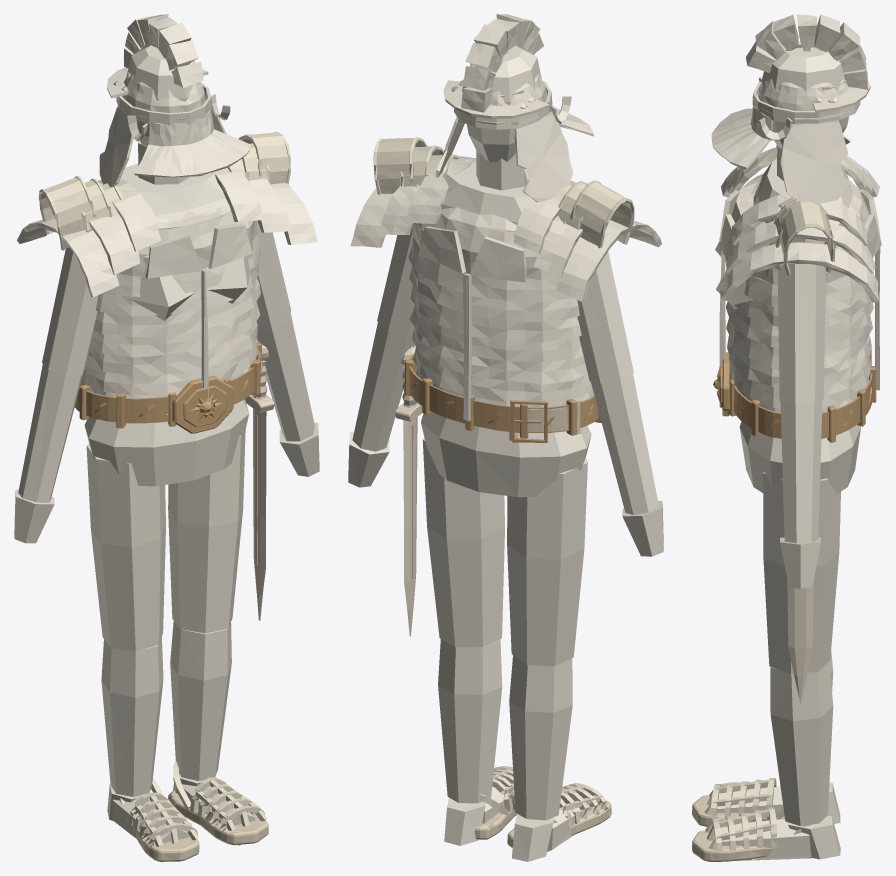
Rendered from roman-female-heroic.glb.
3 views of the same model, side by side, from view 1: azimuth 30°, elevation 25°; view 2: azimuth 150°, elevation 25°; view 3: azimuth 270°, elevation 25° (orthographic). The views are drawn at different scales.
Parts seen in each view (by area): view 1: torso, leg_upper_l, leg_upper_r, leg_lower_r, leg_lower_l, arm_lower_l, helmet:neck_guard, arm_upper_l, arm_lower_r, cuirass:girth_hoop_4, cuirass:girth_hoop_2, cuirass:girth_hoop_3 (+35 smaller); view 2: leg_upper_l, torso, leg_upper_r, leg_lower_r, leg_lower_l, arm_lower_l, arm_upper_l, arm_lower_r, helmet:cheek_guard_r, cuirass:girth_hoop_2, cuirass:girth_hoop_1, cuirass:girth_hoop_3 (+39 smaller); view 3: leg_lower_r, leg_upper_r, arm_upper_r, torso, arm_lower_r, helmet:cheek_guard_l, cuirass:shoulder_lame_l2, head, helmet:neck_guard, cuirass:shoulder_lame_l1, gladius:blade, cuirass:girth_hoop_3 (+38 smaller).
Part boxes in pixels (bbox=[...]): torso: bbox=[84, 163, 256, 486]; leg_upper_l: bbox=[86, 444, 165, 651]; leg_upper_r: bbox=[168, 430, 245, 633]; leg_lower_r: bbox=[170, 621, 231, 780]; leg_lower_l: bbox=[101, 637, 163, 796]; arm_lower_l: bbox=[18, 364, 82, 502]; helmet:neck_guard: bbox=[134, 109, 251, 177]; arm_upper_l: bbox=[42, 247, 98, 375]; arm_lower_r: bbox=[256, 313, 314, 441]; cuirass:girth_hoop_4: bbox=[93, 278, 260, 337]; cuirass:girth_hoop_2: bbox=[86, 321, 257, 376]; cuirass:girth_hoop_3: bbox=[89, 302, 260, 357]; leg_upper_l: bbox=[507, 457, 587, 666]; torso: bbox=[413, 160, 591, 497]; leg_upper_r: bbox=[422, 438, 504, 647]; leg_lower_r: bbox=[438, 639, 502, 803]; leg_lower_l: bbox=[509, 655, 572, 820]; arm_lower_l: bbox=[591, 374, 658, 514]; arm_upper_l: bbox=[577, 251, 633, 384]; arm_lower_r: bbox=[352, 322, 415, 451]; helmet:cheek_guard_r: bbox=[514, 111, 573, 202]; cuirass:girth_hoop_2: bbox=[412, 326, 587, 384]; cuirass:girth_hoop_1: bbox=[413, 346, 592, 403]; cuirass:girth_hoop_3: bbox=[409, 305, 583, 361]; leg_lower_r: bbox=[770, 662, 833, 825]; leg_upper_r: bbox=[763, 472, 840, 674]; arm_upper_r: bbox=[777, 264, 825, 404]; torso: bbox=[715, 159, 860, 493]; arm_lower_r: bbox=[780, 400, 822, 543]; helmet:cheek_guard_l: bbox=[780, 120, 851, 203]; cuirass:shoulder_lame_l2: bbox=[720, 242, 878, 302]; head: bbox=[761, 47, 848, 149]; helmet:neck_guard: bbox=[711, 105, 773, 169]; cuirass:shoulder_lame_l1: bbox=[726, 220, 873, 273]; gladius:blade: bbox=[787, 580, 813, 704]; cuirass:girth_hoop_3: bbox=[726, 315, 872, 368].
Bounding box in the file's own units: 0.7367 × 1.85 × 0.3851.
